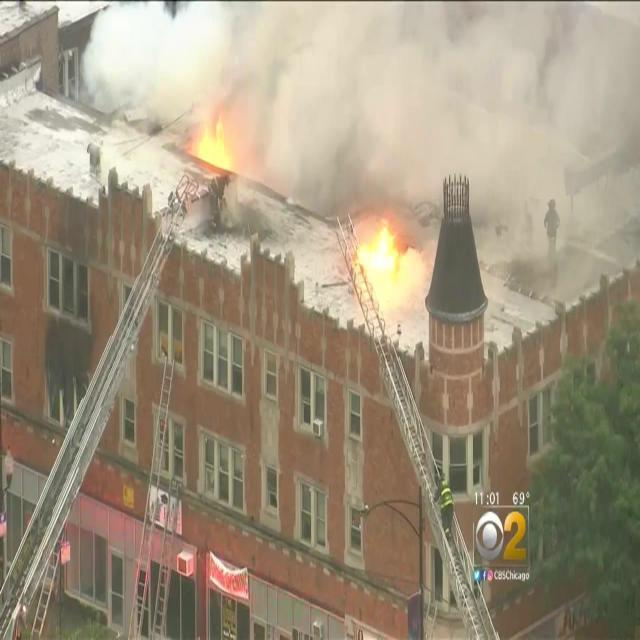Fire: (346, 216, 430, 312), (183, 106, 249, 178)
